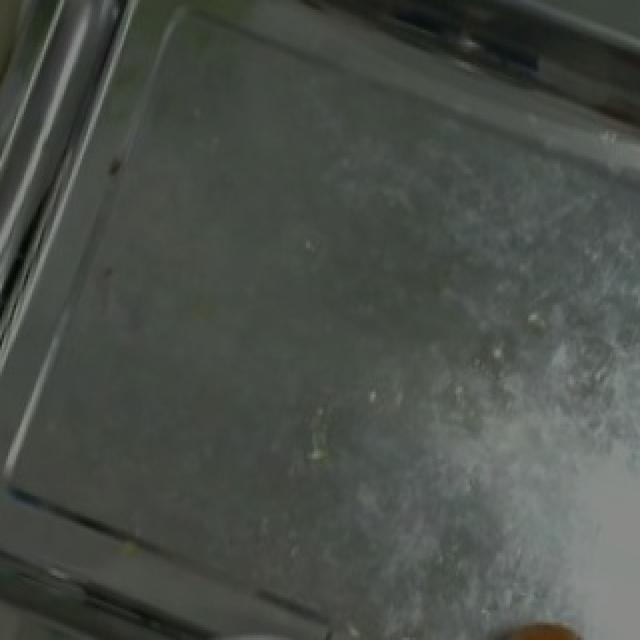Fruit: (440, 603, 640, 640)
